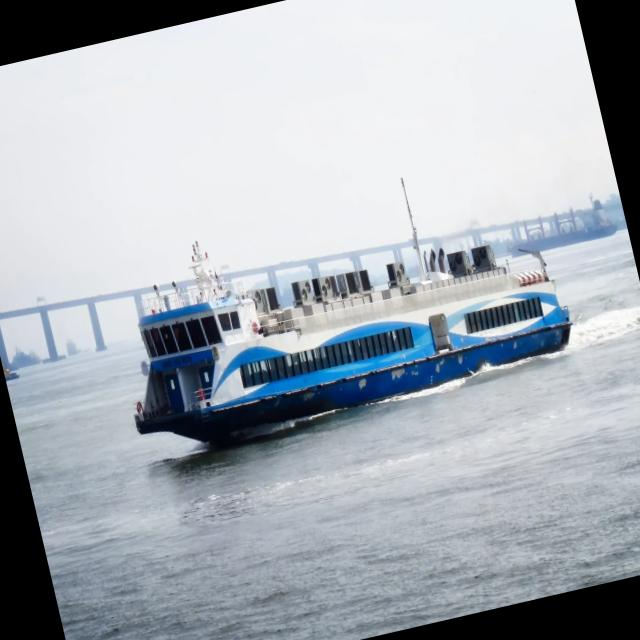Passenger: (134, 179, 570, 443)
